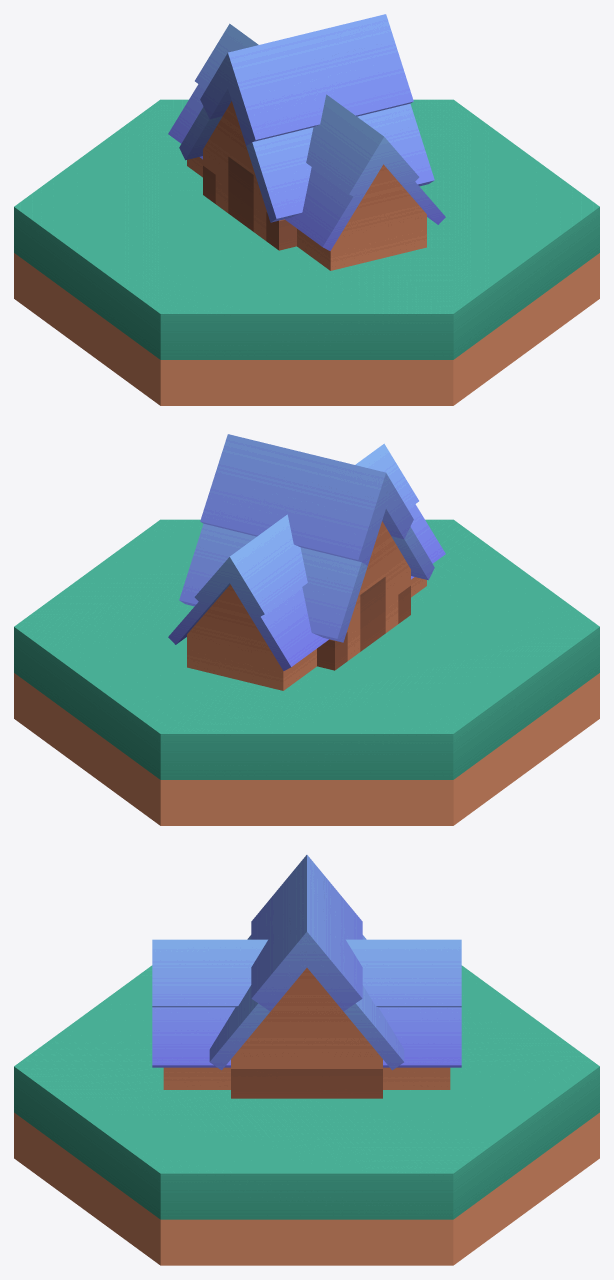
File: grass-mansion.glb
The picture shows the model from 3 angles, top to bottom: view 1: azimuth 30°, elevation 25°; view 2: azimuth 150°, elevation 25°; view 3: azimuth 270°, elevation 25°; orthographic projection.
Parts seen in each view (by area): view 1: grass, unit-mansion; view 2: grass, unit-mansion; view 3: grass, unit-mansion.
Part boxes in pixels (box(x1,y1,x2,y2)): grass: box(14, 99, 599, 405); unit-mansion: box(168, 14, 445, 270); grass: box(14, 519, 599, 825); unit-mansion: box(168, 434, 445, 690); grass: box(14, 965, 599, 1265); unit-mansion: box(152, 855, 461, 1098).
Size of the model in its own units: 1 by 0.5771 by 1.15.
1 material, 1 textured.
